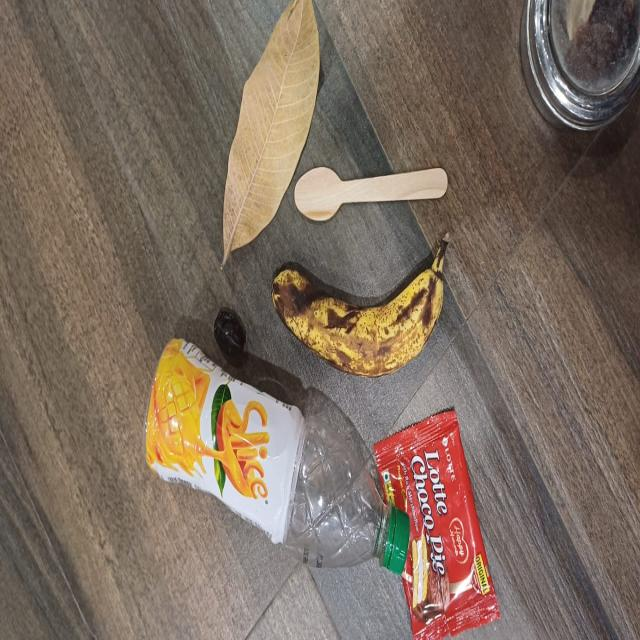Banana-Bio: (273, 239, 448, 381)
Date-Bio: (212, 296, 247, 369)
Leaf-Bio: (196, 0, 321, 261)
Plastic-NonBio: (147, 324, 414, 590), (373, 400, 501, 640)
Wooden Spoon-Bio: (294, 150, 454, 231)
